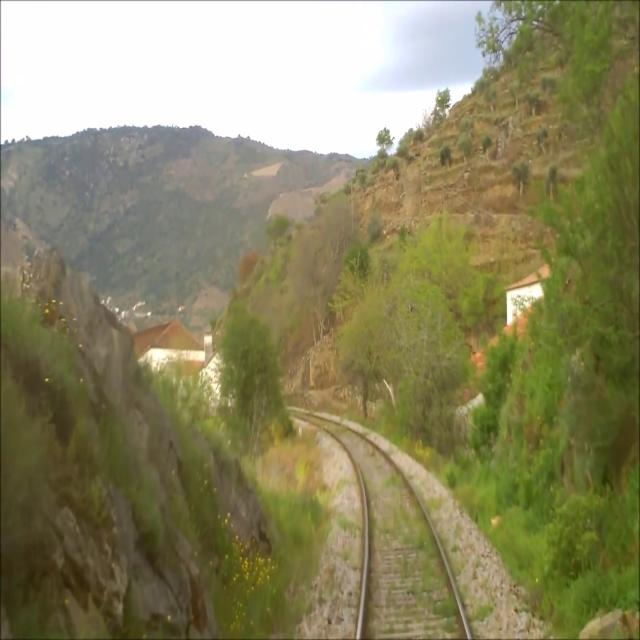rail-track: (321, 422, 466, 639)
